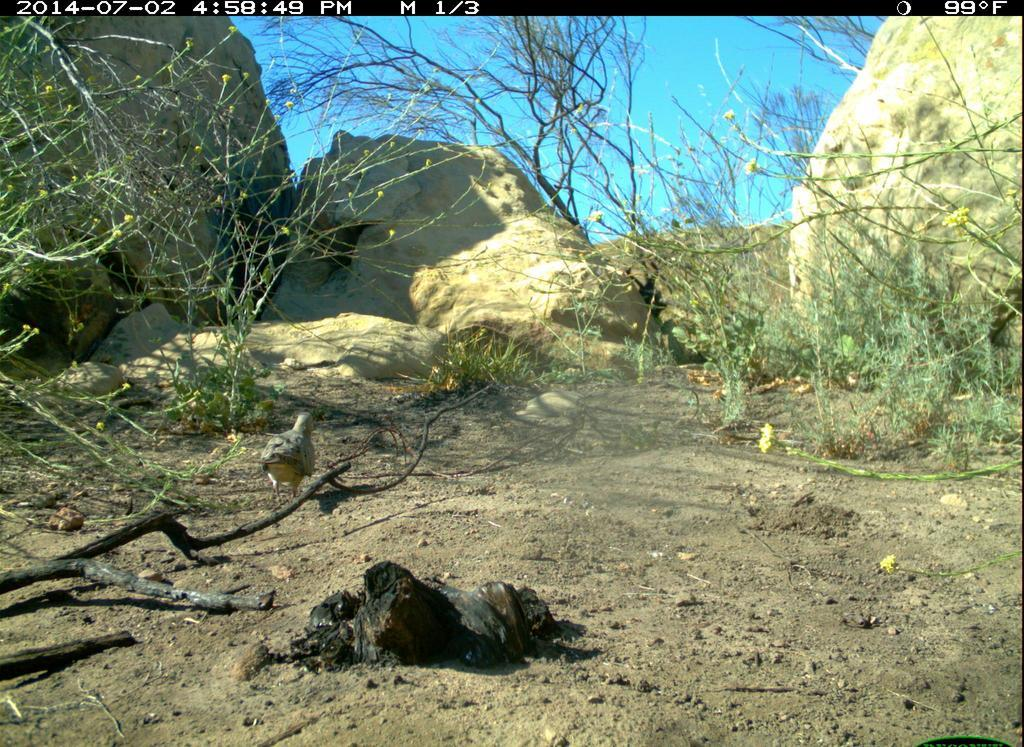bird: (250, 404, 342, 509)
